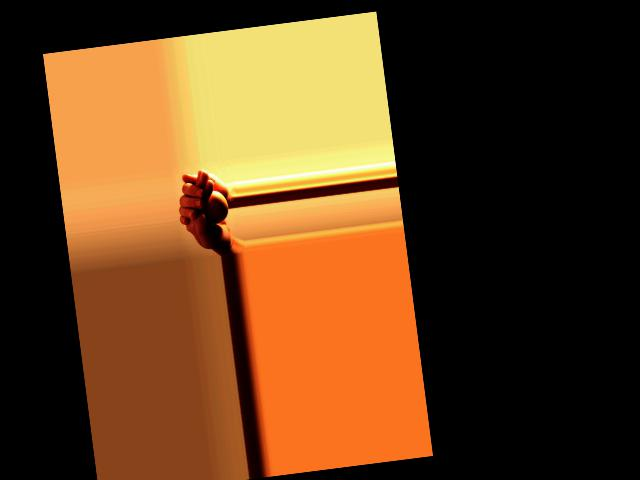egg: (203, 189, 229, 225)
